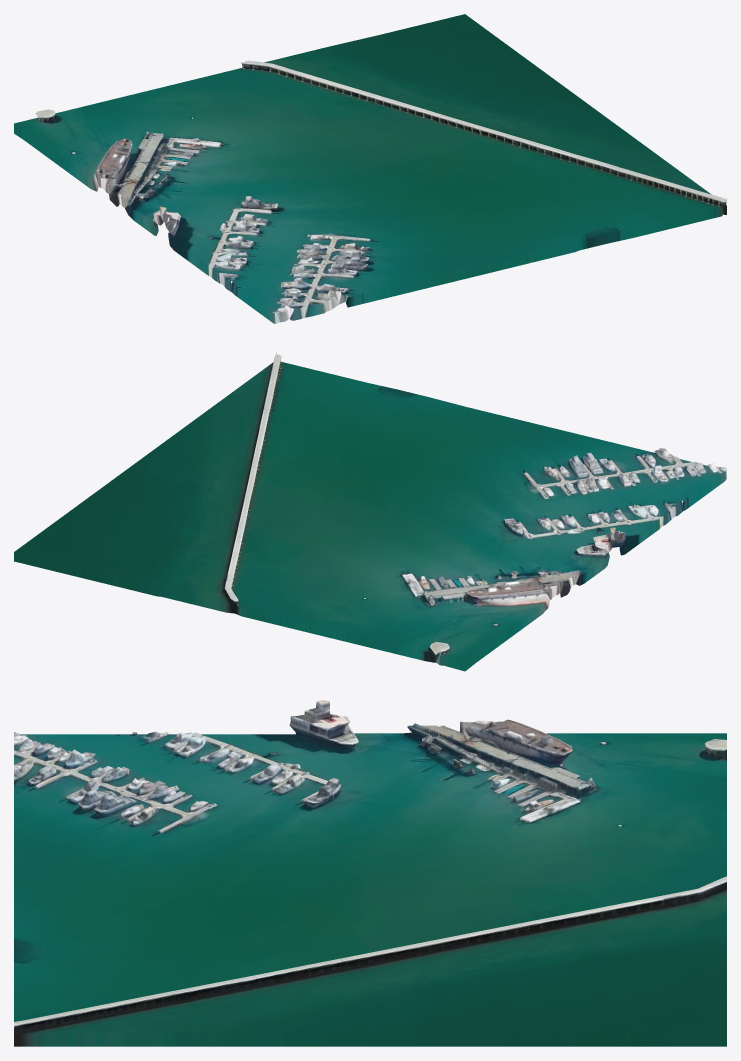
File: z17-20963-50645-h0-yup-uvflip-v3-world.glb
3 renders of one model, top to bottom at view 1: azimuth 30°, elevation 25°; view 2: azimuth 150°, elevation 25°; view 3: azimuth 270°, elevation 25°, orthographic. The views are drawn at different scales.
Bounding box in the file's own units: 241 × 17.6 × 243.
1 material, 1 textured.
